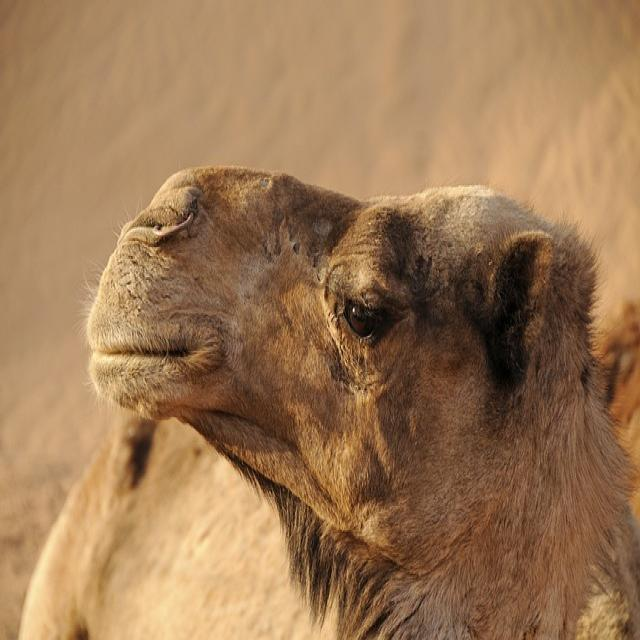Herbivorous: (85, 164, 640, 640)
